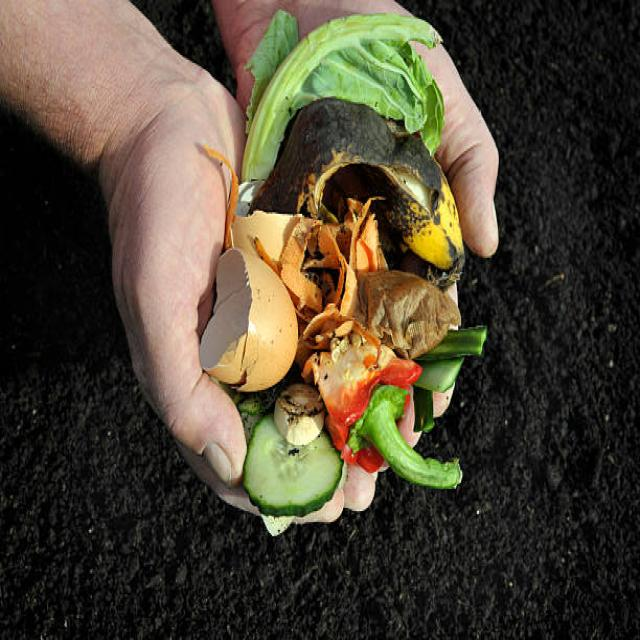Organic: (205, 9, 486, 499)
